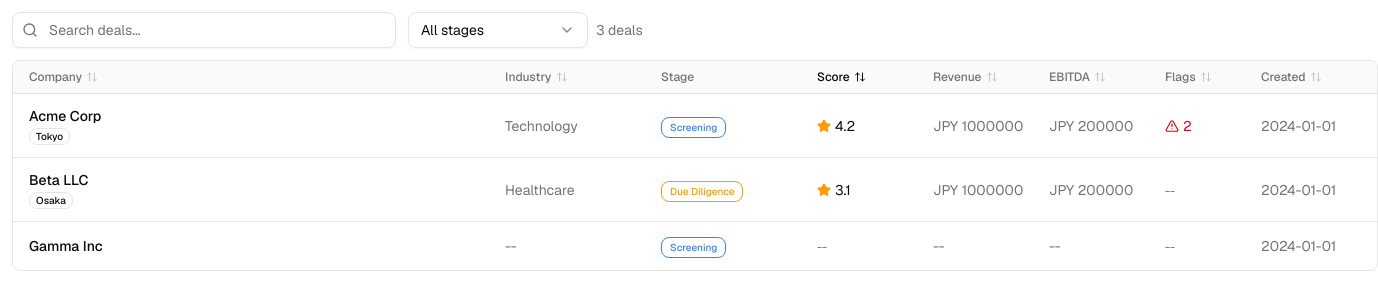
Test: DealListView › filters by location in search
Type "Osaka" into the field with placeholder "Search deals...".
click(204, 30); type("Osaka")  # box [12,12,396,48]
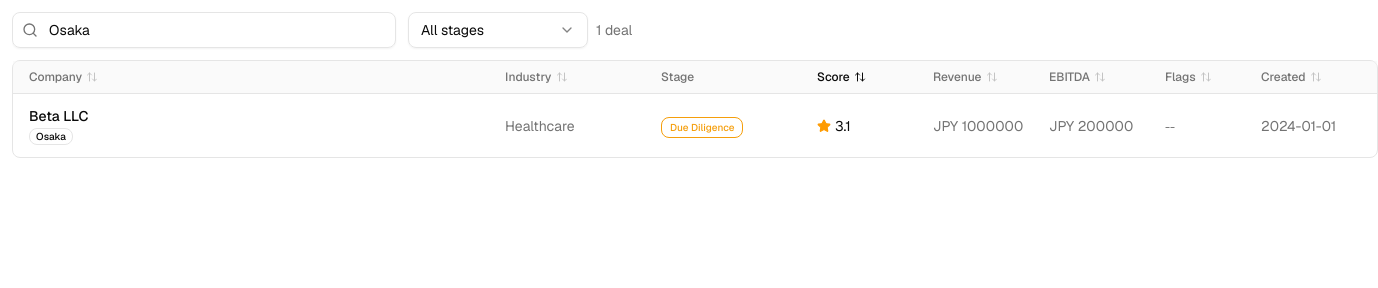
Expected: the text "Acme Corp" is gone
